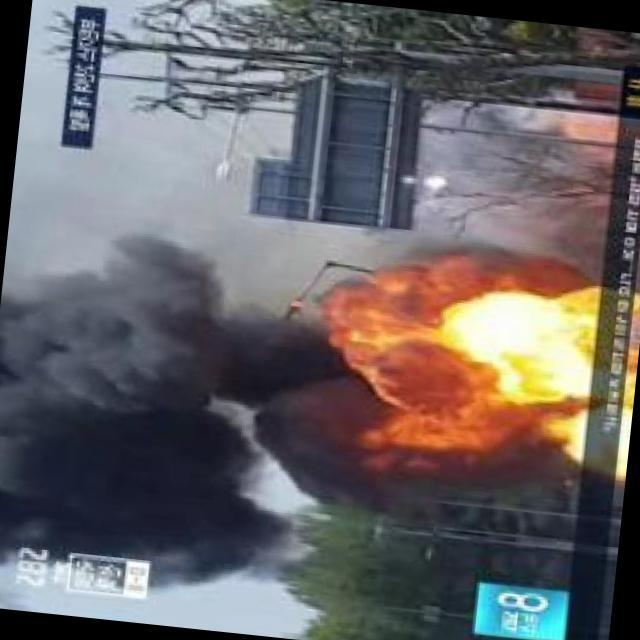Fire: (391, 269, 599, 409), (619, 300, 640, 482)
